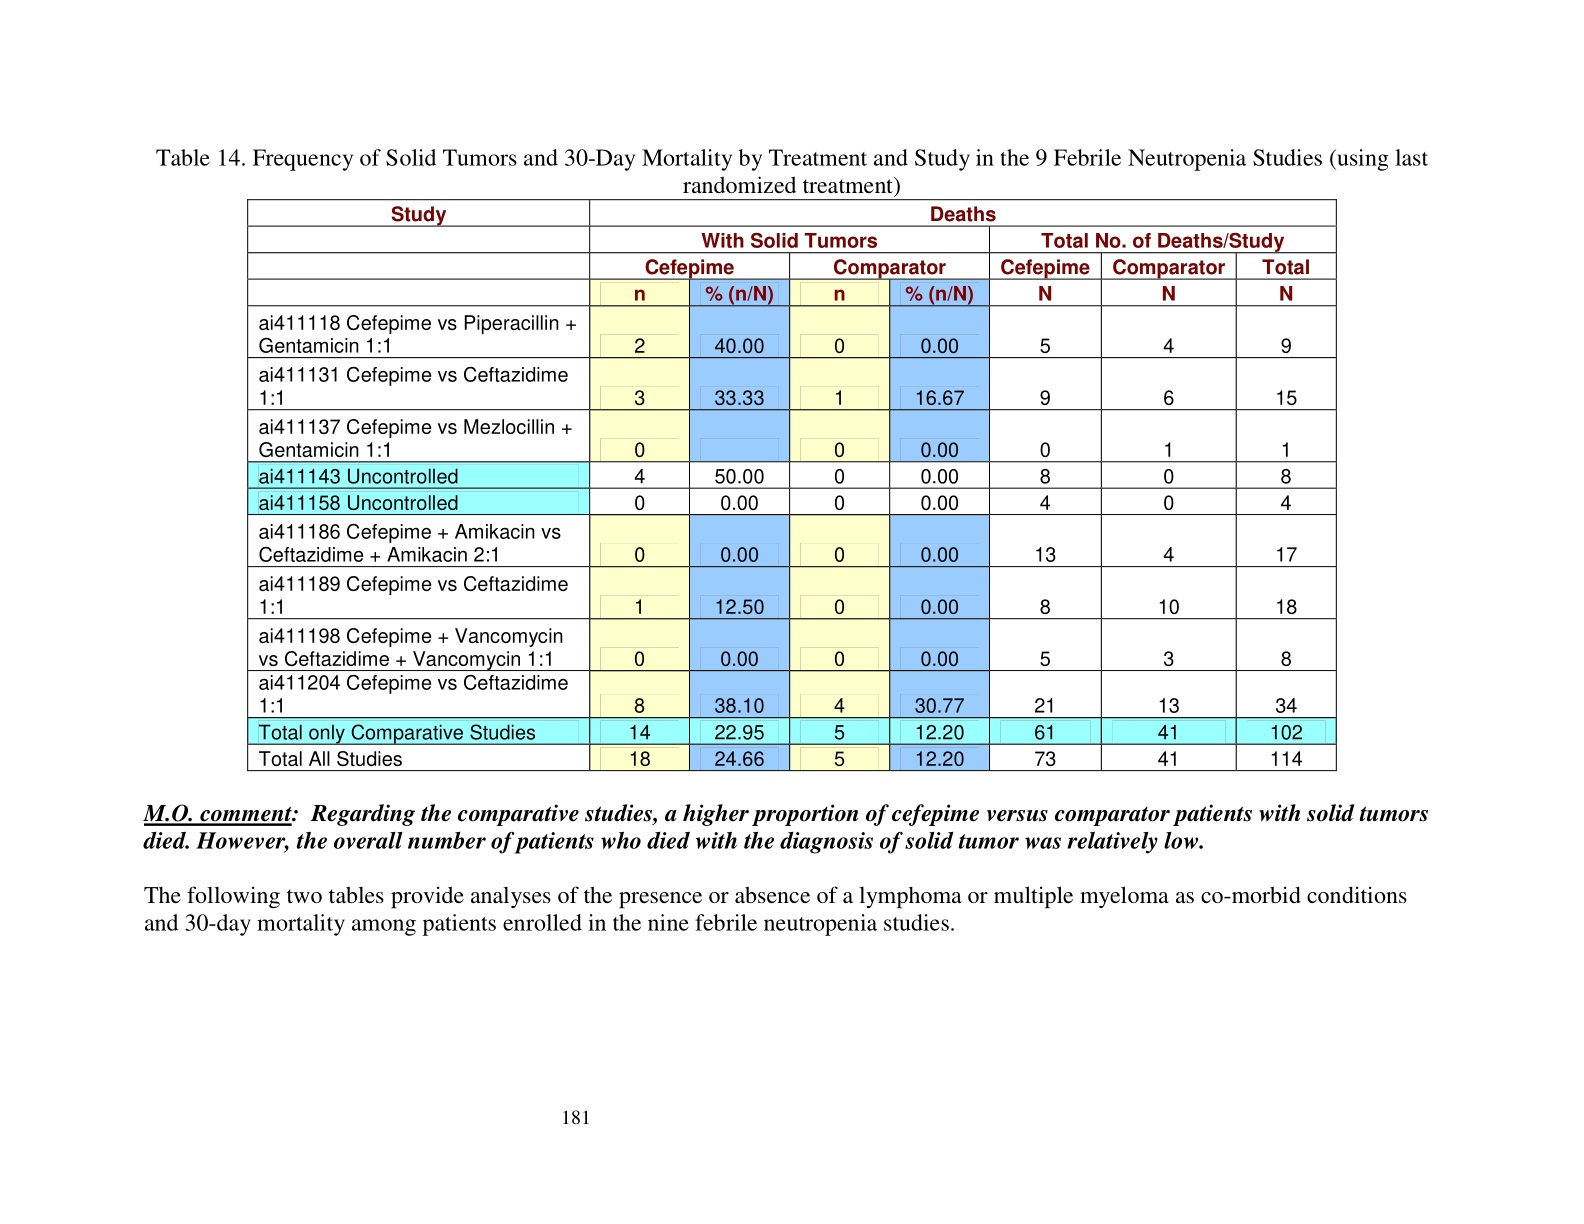merged_cells: (246, 198, 1338, 773)
